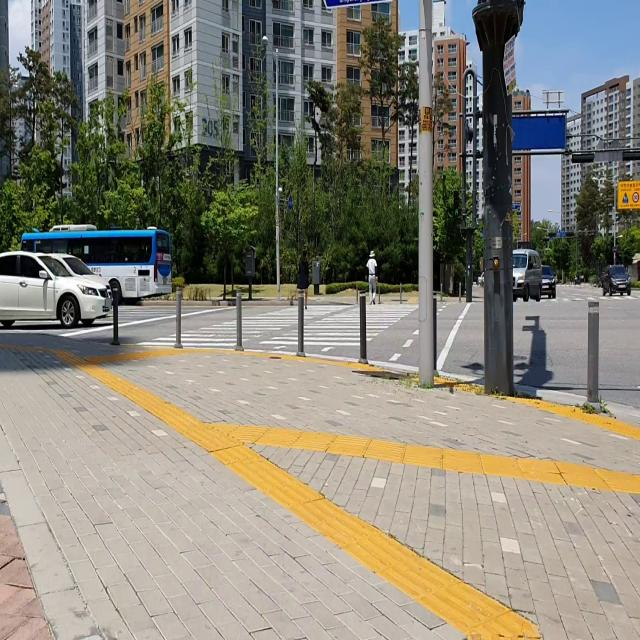횡단보도: (134, 302, 420, 352)
